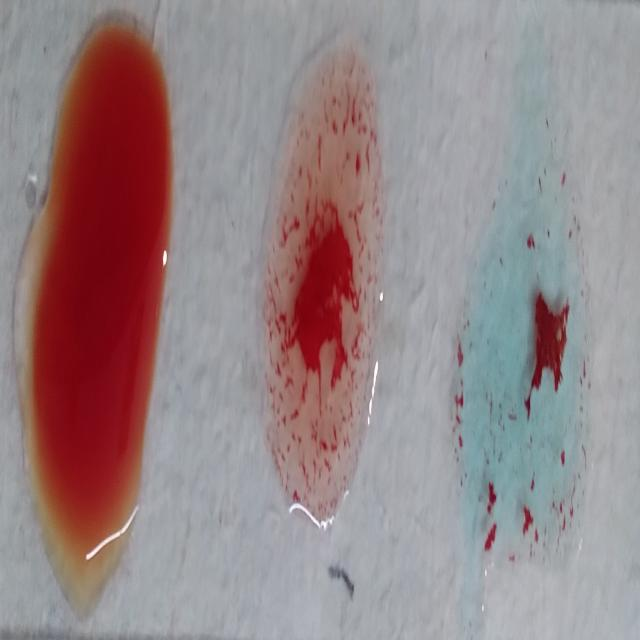A: (458, 151, 590, 569)
D: (258, 45, 387, 528)
